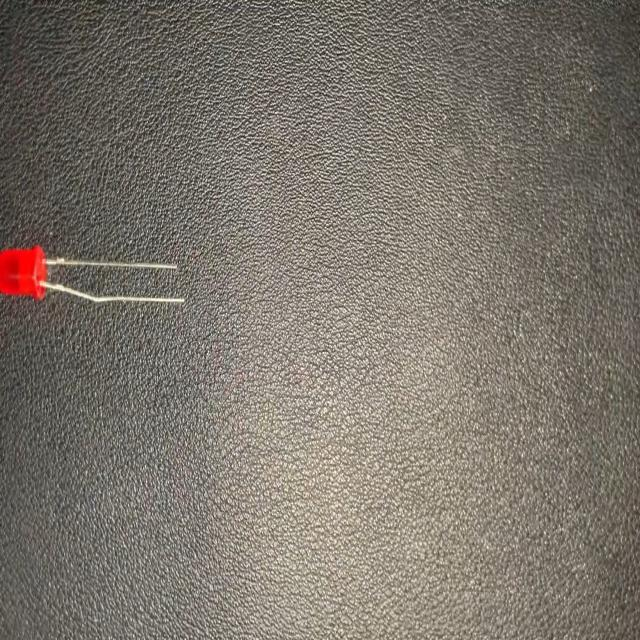LED: (0, 225, 185, 325)
